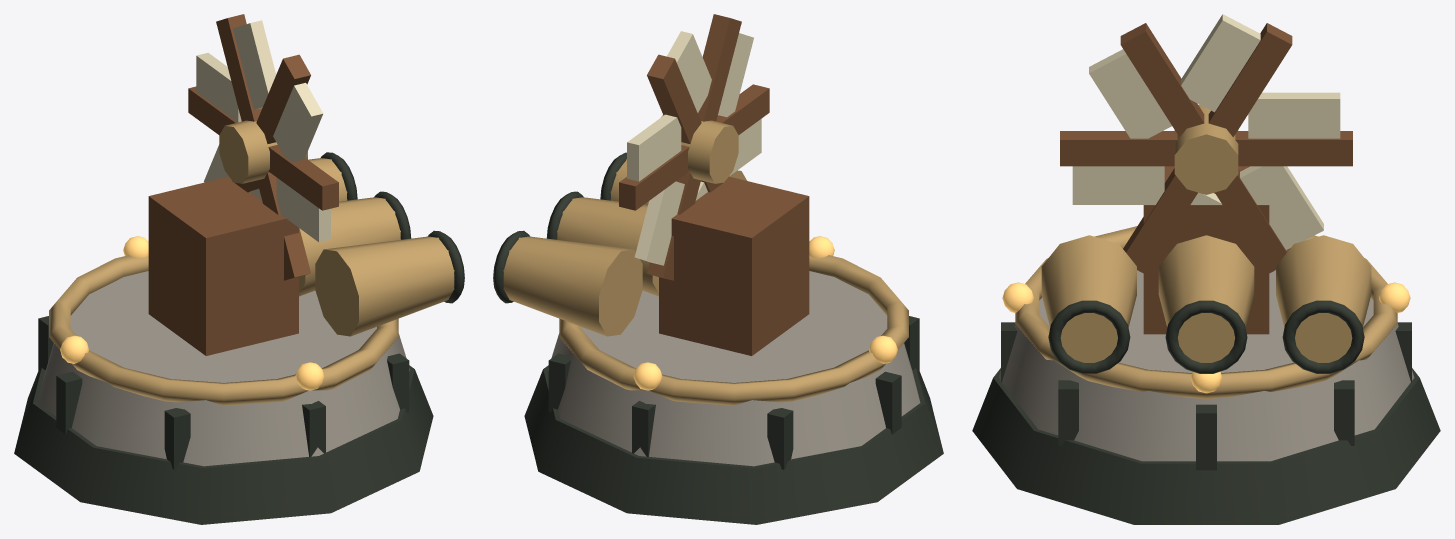
The model's file is tower_wind_windRotor_ultimate.glb.
3 renders of one model, left to right at view 1: azimuth 30°, elevation 25°; view 2: azimuth 150°, elevation 25°; view 3: azimuth 270°, elevation 25°, orthographic. The views are drawn at different scales.
Visible parts, largest first — view 1: stone_1, foot_0, mill_15, air_nozzle_29, rim_2, air_nozzle_31, hub_16, sail_22, sail_20, spar_23, spar_21, sail_18 (+15 smaller); view 2: stone_1, foot_0, mill_15, air_nozzle_33, rim_2, air_nozzle_31, hub_16, spar_21, sail_18, spar_19, sail_28, spar_17 (+15 smaller); view 3: foot_0, stone_1, rim_2, air_nozzle_31, air_nozzle_29, air_nozzle_33, mill_15, sail_18, sail_20, spar_23, hub_16, sail_28 (+17 smaller).
Boxes of the visible parts, <box> form: stone_1: <box>37,271,409,466</box>; foot_0: <box>14,365,433,524</box>; mill_15: <box>148,176,298,355</box>; air_nozzle_29: <box>315,236,454,336</box>; rim_2: <box>49,255,398,405</box>; air_nozzle_31: <box>299,197,400,296</box>; hub_16: <box>219,120,307,183</box>; sail_22: <box>273,82,323,162</box>; sail_20: <box>233,20,276,109</box>; spar_23: <box>268,145,338,210</box>; spar_21: <box>256,54,310,143</box>; sail_18: <box>196,52,241,122</box>; stone_1: <box>548,271,920,466</box>; foot_0: <box>524,365,943,524</box>; mill_15: <box>659,176,809,355</box>; air_nozzle_33: <box>503,236,642,336</box>; rim_2: <box>559,255,908,405</box>; air_nozzle_31: <box>557,197,658,296</box>; hub_16: <box>661,115,738,183</box>; spar_21: <box>698,14,741,121</box>; sail_18: <box>627,114,681,181</box>; spar_19: <box>647,54,701,143</box>; sail_28: <box>634,181,684,265</box>; spar_17: <box>619,145,689,210</box>; foot_0: <box>972,368,1440,524</box>; stone_1: <box>998,270,1414,461</box>; rim_2: <box>1015,226,1397,398</box>; air_nozzle_31: <box>1158,235,1254,362</box>; air_nozzle_29: <box>1041,235,1136,362</box>; air_nozzle_33: <box>1276,235,1371,362</box>; mill_15: <box>1143,166,1269,334</box>; sail_18: <box>1248,92,1340,138</box>; sail_20: <box>1181,14,1260,112</box>; spar_23: <box>1060,131,1177,166</box>; hub_16: <box>1174,104,1238,194</box>; sail_28: <box>1240,166,1323,250</box>.
Bounding box in the file's own units: 0.5326 × 0.5736 × 0.56.
